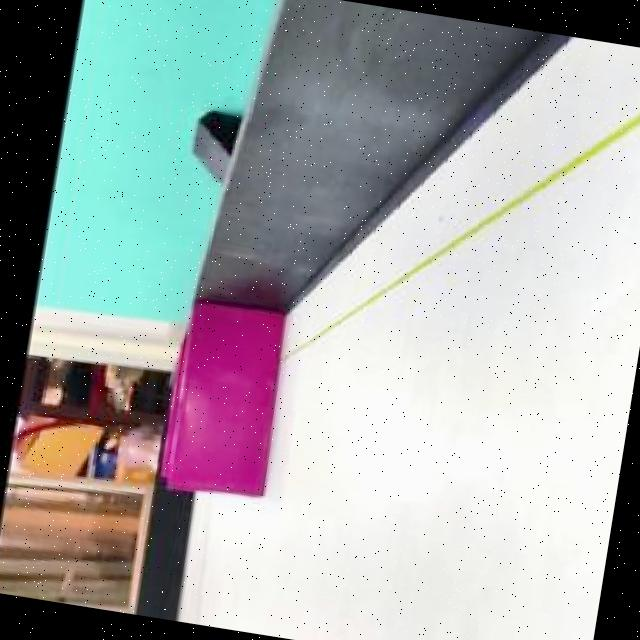xparking: (169, 308, 290, 499)
